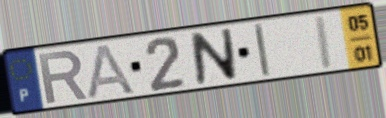2: (143, 34, 189, 94)
A: (86, 42, 139, 101)
I: (312, 13, 336, 72), (251, 21, 273, 80)
N: (188, 26, 240, 87)
R: (36, 48, 91, 106)
